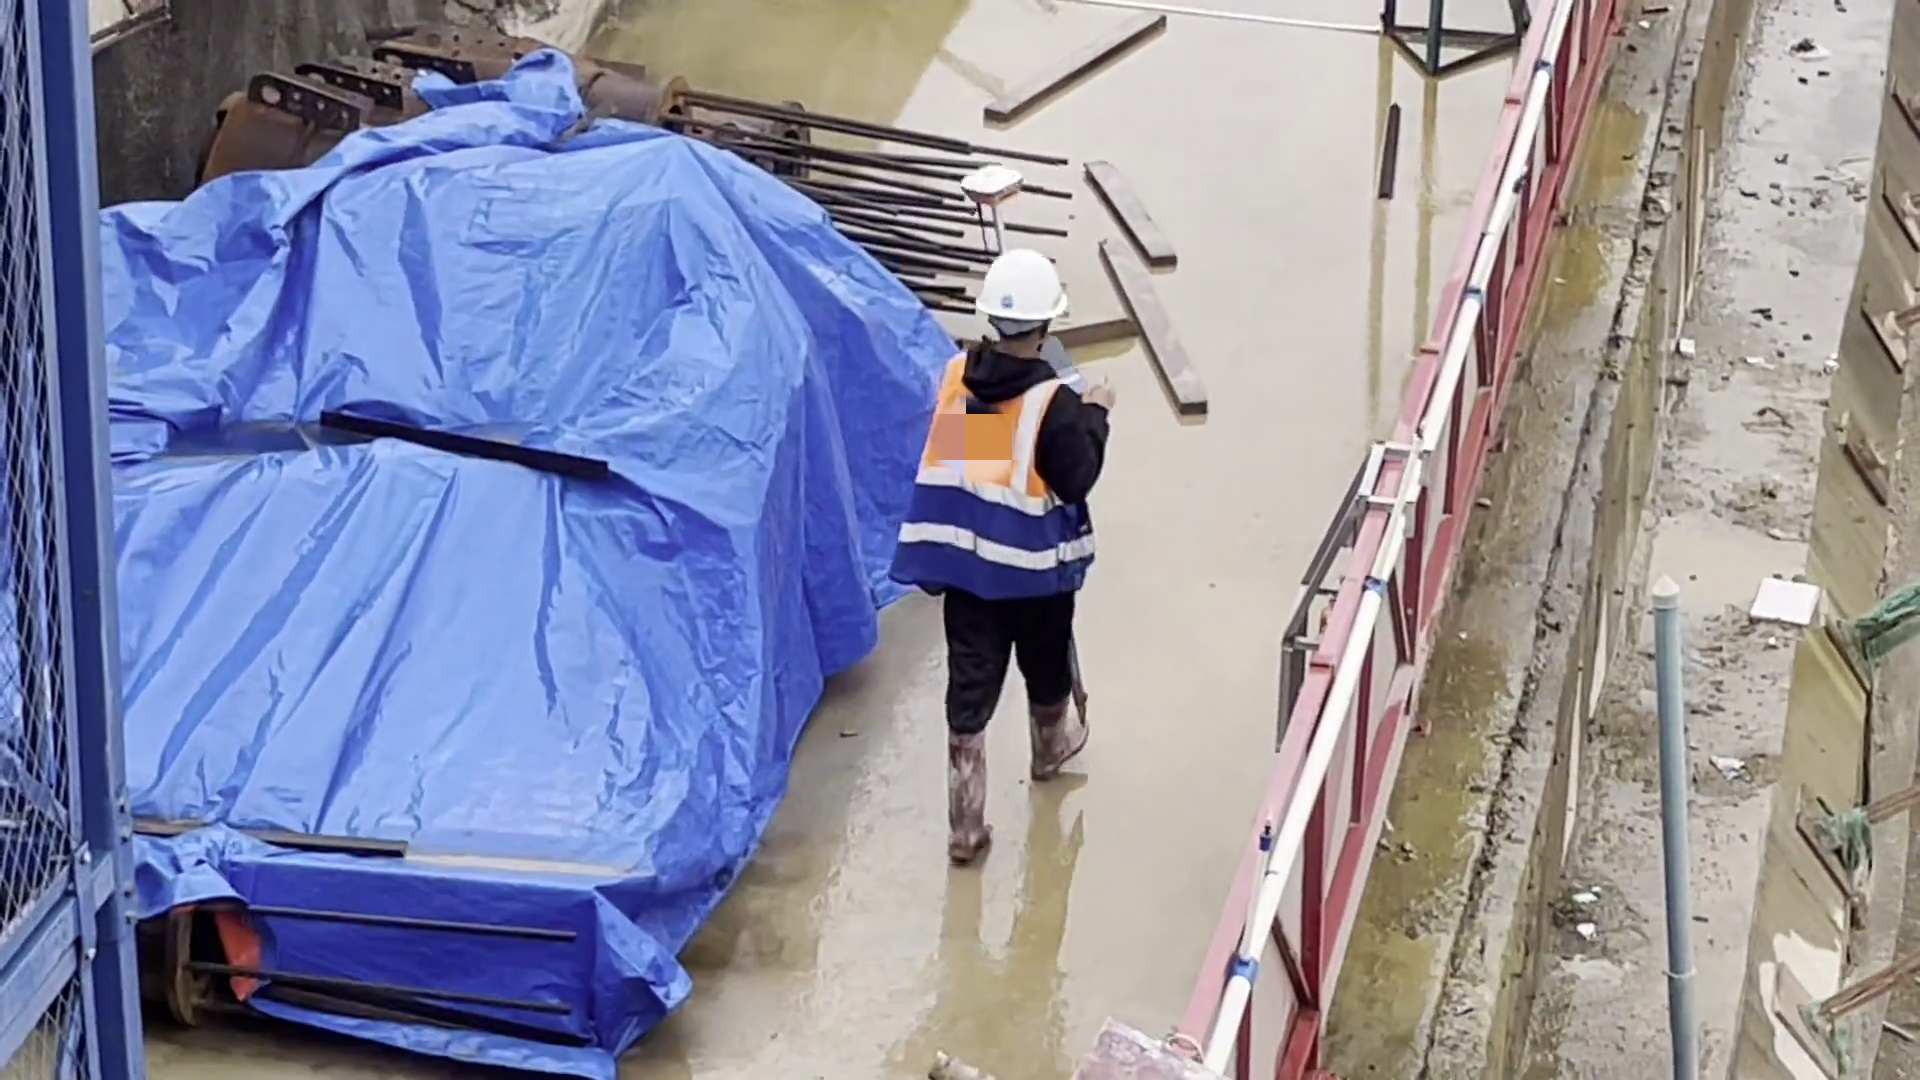fence: (1137, 632, 1373, 1080), (1335, 289, 1523, 712), (1468, 1, 1623, 472)
helmet: (963, 242, 1078, 331)
person: (873, 231, 1161, 870)
vest: (883, 337, 1130, 614)
